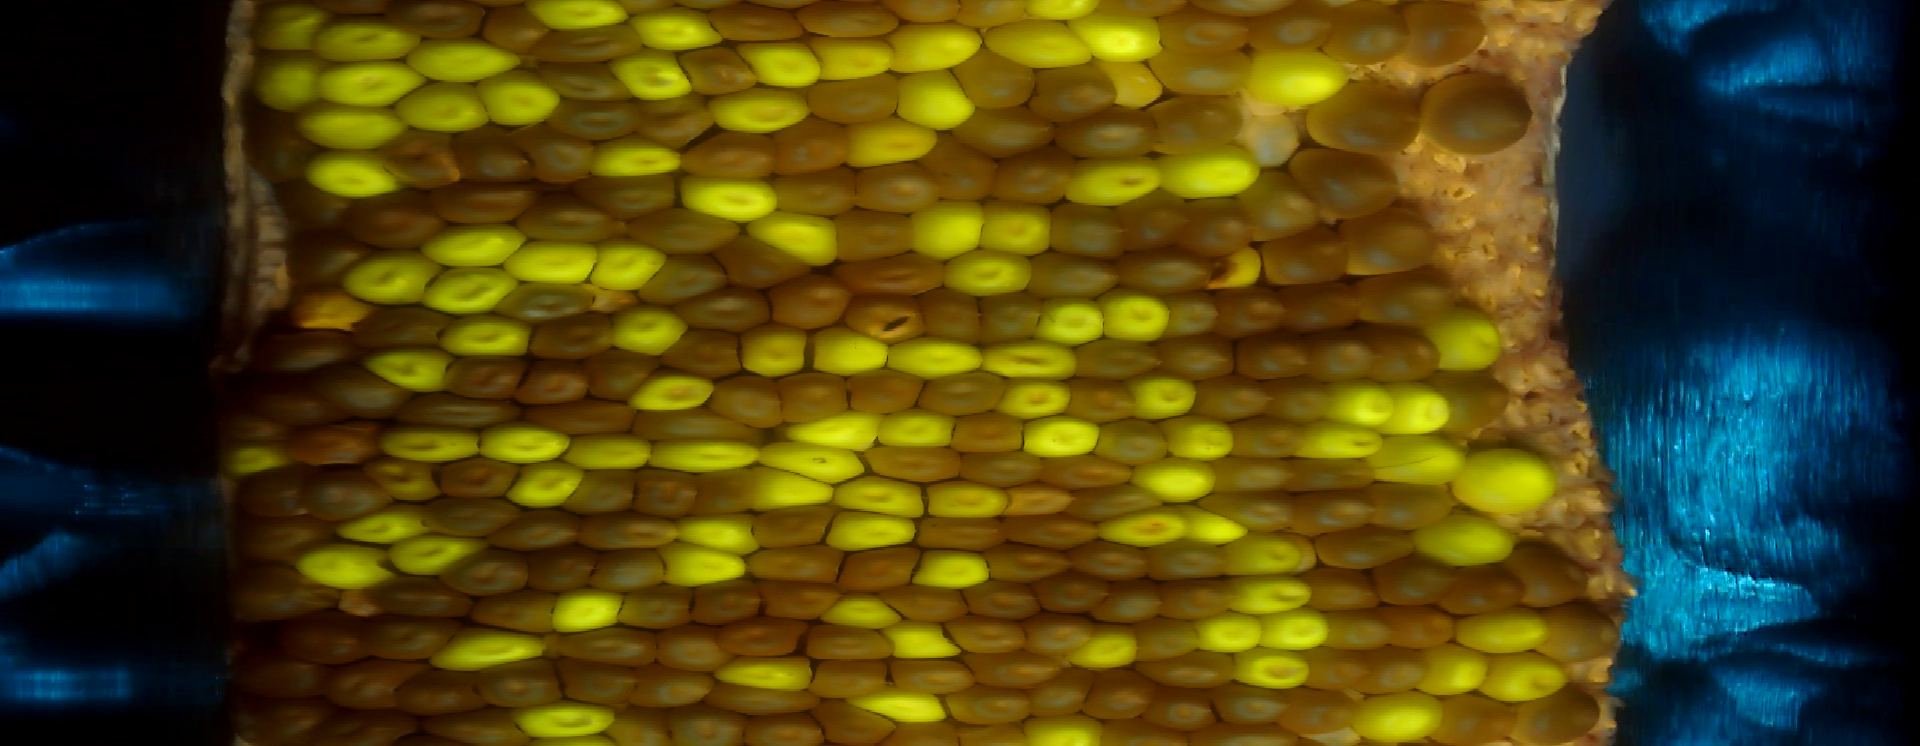fluorescent: (981, 16, 1096, 70), (1463, 450, 1558, 514), (1244, 49, 1352, 104), (296, 102, 411, 151), (1153, 148, 1265, 197), (405, 36, 529, 80), (320, 9, 418, 62), (898, 17, 986, 76), (842, 111, 936, 167), (392, 81, 489, 134), (713, 650, 818, 698), (336, 249, 435, 299), (896, 69, 977, 130), (713, 82, 811, 132), (1455, 608, 1558, 655), (1349, 693, 1451, 741), (651, 539, 756, 586), (1065, 153, 1163, 202), (1412, 516, 1512, 563), (808, 323, 891, 381), (940, 245, 1033, 296), (740, 323, 824, 380), (1375, 439, 1472, 488), (440, 311, 539, 359), (605, 45, 692, 99), (475, 71, 562, 124), (580, 134, 687, 176), (513, 701, 620, 744), (1081, 9, 1166, 62), (645, 437, 760, 477), (435, 628, 550, 668), (302, 149, 400, 195), (669, 510, 767, 555), (754, 211, 836, 265), (430, 265, 516, 316), (300, 546, 399, 590), (1428, 311, 1504, 369), (320, 58, 421, 100), (378, 419, 482, 461), (482, 420, 576, 467), (983, 338, 1079, 383), (1418, 641, 1491, 699), (1488, 650, 1573, 701), (425, 223, 528, 265), (923, 477, 1015, 523), (631, 2, 720, 50), (888, 334, 984, 379), (1102, 288, 1176, 345), (684, 175, 778, 220), (1135, 459, 1221, 508), (831, 475, 921, 522), (589, 236, 662, 293), (746, 461, 831, 508), (760, 443, 864, 483), (980, 198, 1052, 255), (740, 40, 820, 91), (360, 345, 451, 390), (1229, 648, 1319, 692), (392, 529, 484, 572), (902, 202, 982, 251), (247, 58, 324, 108), (610, 307, 691, 355), (550, 586, 624, 637), (812, 34, 896, 80), (1120, 369, 1196, 419), (825, 511, 918, 551), (847, 692, 956, 726), (513, 241, 598, 285), (636, 367, 715, 413), (508, 461, 583, 508), (793, 409, 882, 450), (1036, 296, 1103, 349), (256, 4, 324, 55), (1393, 375, 1450, 437), (1300, 418, 1382, 461), (1022, 416, 1100, 462), (1162, 413, 1234, 461), (819, 590, 900, 632), (883, 407, 961, 450), (894, 616, 965, 661), (1233, 571, 1313, 611), (1000, 379, 1076, 420), (913, 549, 993, 588), (1336, 375, 1393, 428), (1112, 510, 1189, 549), (568, 432, 647, 470), (1229, 538, 1300, 579), (1256, 612, 1329, 653), (1178, 503, 1245, 546), (345, 508, 424, 545), (1198, 612, 1262, 657), (534, 1, 629, 29), (1022, 717, 1106, 746), (1078, 632, 1145, 668), (208, 441, 279, 472)
nonfluorescent: (1417, 72, 1538, 157), (1292, 82, 1429, 156), (1338, 206, 1446, 272), (1289, 148, 1402, 211), (1249, 228, 1356, 285), (615, 207, 742, 254), (1152, 91, 1242, 157), (1362, 267, 1456, 330), (347, 187, 442, 247), (1398, 2, 1489, 64), (381, 130, 465, 195), (954, 102, 1060, 153), (520, 191, 624, 243), (227, 567, 333, 617), (986, 141, 1068, 206), (1329, 2, 1412, 65), (283, 612, 377, 668), (1240, 170, 1314, 240), (1512, 541, 1589, 608), (456, 125, 536, 187), (853, 160, 951, 212), (1056, 107, 1155, 157), (923, 129, 996, 197), (1313, 526, 1413, 575), (719, 234, 814, 285), (1033, 61, 1120, 118), (844, 292, 934, 345), (804, 77, 909, 124), (910, 369, 1010, 416), (797, 617, 893, 668), (551, 627, 662, 670), (1440, 370, 1513, 435), (1542, 601, 1618, 664), (677, 287, 776, 334), (1160, 7, 1250, 59), (1367, 323, 1445, 382), (402, 390, 519, 429), (767, 274, 850, 330), (804, 697, 898, 746), (741, 544, 850, 586), (524, 120, 596, 183), (225, 649, 320, 697), (471, 590, 561, 641), (1524, 690, 1604, 746), (960, 51, 1035, 111), (1282, 281, 1367, 333), (430, 180, 533, 223), (1025, 254, 1128, 296), (1123, 249, 1212, 298), (321, 657, 408, 707), (775, 167, 860, 218), (354, 303, 447, 349), (633, 92, 715, 145), (1049, 202, 1128, 257), (640, 249, 726, 299), (834, 254, 947, 292), (362, 619, 457, 664), (544, 18, 640, 62), (629, 408, 758, 441), (833, 208, 917, 258), (523, 397, 634, 435), (1209, 450, 1300, 495), (711, 375, 784, 432), (1451, 562, 1528, 616), (478, 655, 564, 703), (1304, 325, 1378, 381), (845, 365, 923, 418), (329, 365, 404, 420), (684, 132, 778, 176), (969, 644, 1057, 691), (1158, 50, 1254, 93), (676, 40, 756, 92), (425, 707, 536, 744), (771, 118, 847, 171), (623, 578, 699, 632), (366, 579, 470, 619), (549, 93, 636, 140), (529, 309, 613, 356), (442, 552, 545, 592), (252, 332, 351, 372), (1258, 4, 1333, 56), (1434, 693, 1520, 740), (246, 124, 310, 186), (442, 354, 525, 402), (305, 469, 388, 517), (1182, 194, 1247, 255), (718, 612, 807, 657), (556, 657, 631, 709), (1067, 341, 1161, 382), (1207, 492, 1304, 533), (945, 681, 1033, 725), (236, 697, 320, 744), (246, 375, 323, 425), (233, 467, 310, 517), (539, 58, 626, 102), (1294, 491, 1386, 533), (812, 653, 894, 699), (578, 516, 684, 551), (1158, 333, 1236, 382), (629, 467, 703, 518), (752, 578, 835, 624), (419, 499, 518, 537), (1004, 508, 1103, 546), (866, 443, 961, 483), (921, 283, 986, 341), (955, 446, 1044, 488), (876, 586, 973, 624), (324, 708, 422, 746), (714, 677, 818, 713), (656, 624, 733, 671), (1147, 649, 1240, 688), (1386, 557, 1452, 612), (1236, 334, 1311, 382), (949, 408, 1033, 451), (1370, 481, 1455, 524), (587, 171, 676, 212), (707, 4, 804, 40), (519, 355, 589, 407), (1220, 285, 1286, 339), (918, 513, 1007, 554), (1128, 194, 1189, 251), (629, 668, 714, 709), (891, 654, 973, 697), (527, 543, 600, 590), (756, 506, 836, 549), (587, 550, 672, 590), (1291, 685, 1363, 733), (978, 285, 1041, 341), (1036, 451, 1133, 486), (1089, 664, 1152, 718), (493, 511, 587, 548), (235, 519, 328, 556), (1194, 376, 1273, 419), (1307, 570, 1379, 616), (779, 372, 849, 420), (838, 545, 920, 586), (396, 673, 478, 713), (972, 577, 1049, 620), (397, 4, 486, 40), (504, 282, 594, 318), (1145, 682, 1213, 730), (1029, 575, 1112, 614), (1097, 419, 1167, 465), (1067, 379, 1140, 423), (1062, 485, 1163, 517), (440, 457, 517, 499), (1156, 577, 1233, 619), (1318, 606, 1386, 653), (989, 539, 1070, 578), (1309, 650, 1375, 698), (1228, 419, 1302, 462), (589, 349, 651, 399), (284, 235, 362, 274), (571, 470, 638, 516), (482, 2, 546, 50), (694, 581, 763, 625), (293, 424, 372, 462), (278, 190, 350, 232), (1035, 666, 1089, 722), (677, 332, 741, 379), (369, 459, 440, 501), (1294, 454, 1371, 492), (1213, 685, 1289, 723), (804, 1, 898, 32), (1078, 540, 1150, 579), (1155, 540, 1224, 581), (1389, 608, 1458, 648), (671, 706, 741, 746), (1271, 376, 1330, 423), (1171, 290, 1224, 339), (1103, 581, 1164, 624), (696, 470, 752, 516), (1025, 612, 1089, 650), (1368, 646, 1420, 691), (1139, 619, 1196, 659), (954, 619, 1022, 650), (609, 706, 662, 746), (900, 2, 966, 24)
